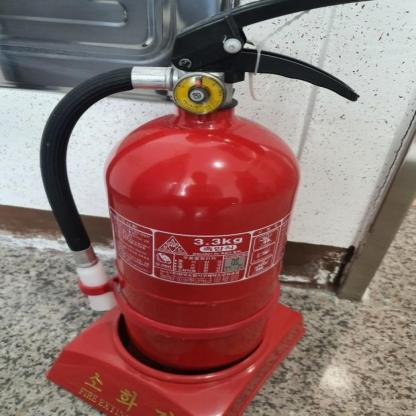Fire Extinguisher: (40, 0, 391, 376)
